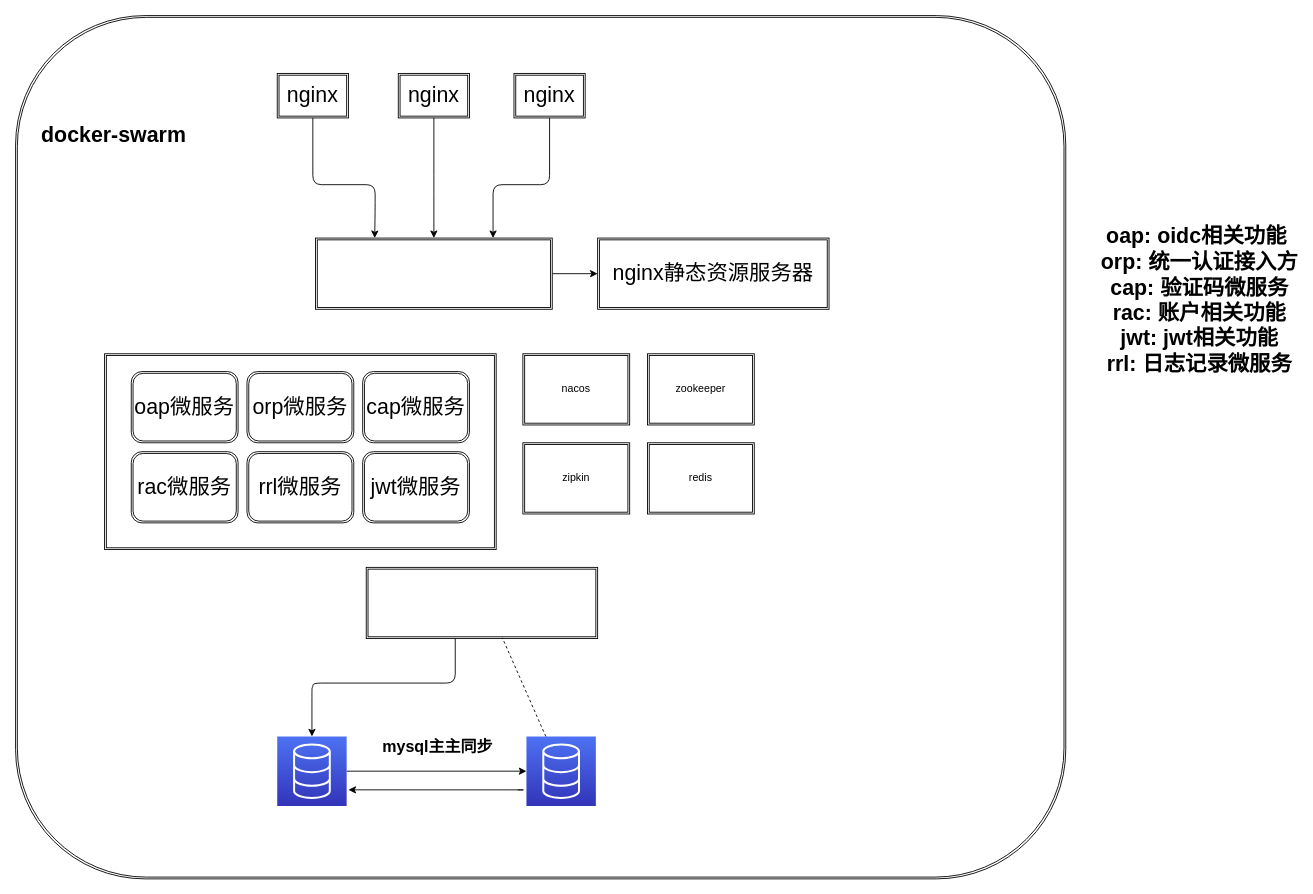
Image size: 1313x894. Some labels were removed from this diagram. Here are the shapes that lost their labels. From the top down, the box of each, then its label:
(315, 237, 552, 309): springcloud gateway
(365, 566, 598, 639): nginx mysql
